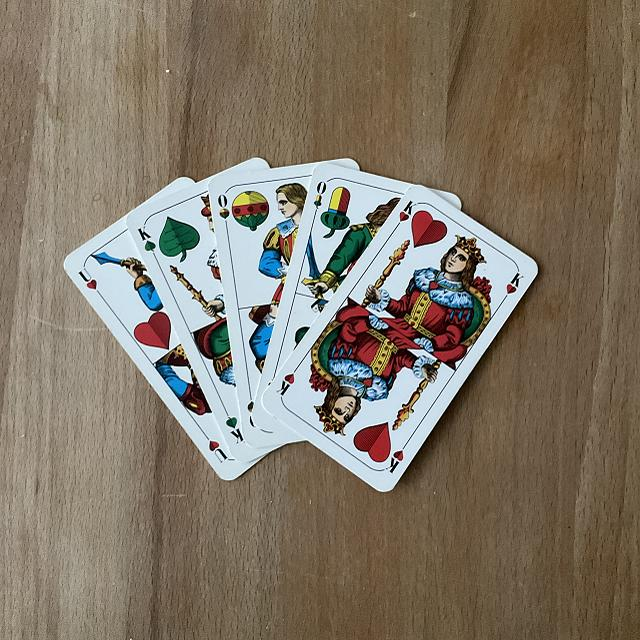ServusZukuft: (62, 154, 550, 500)
